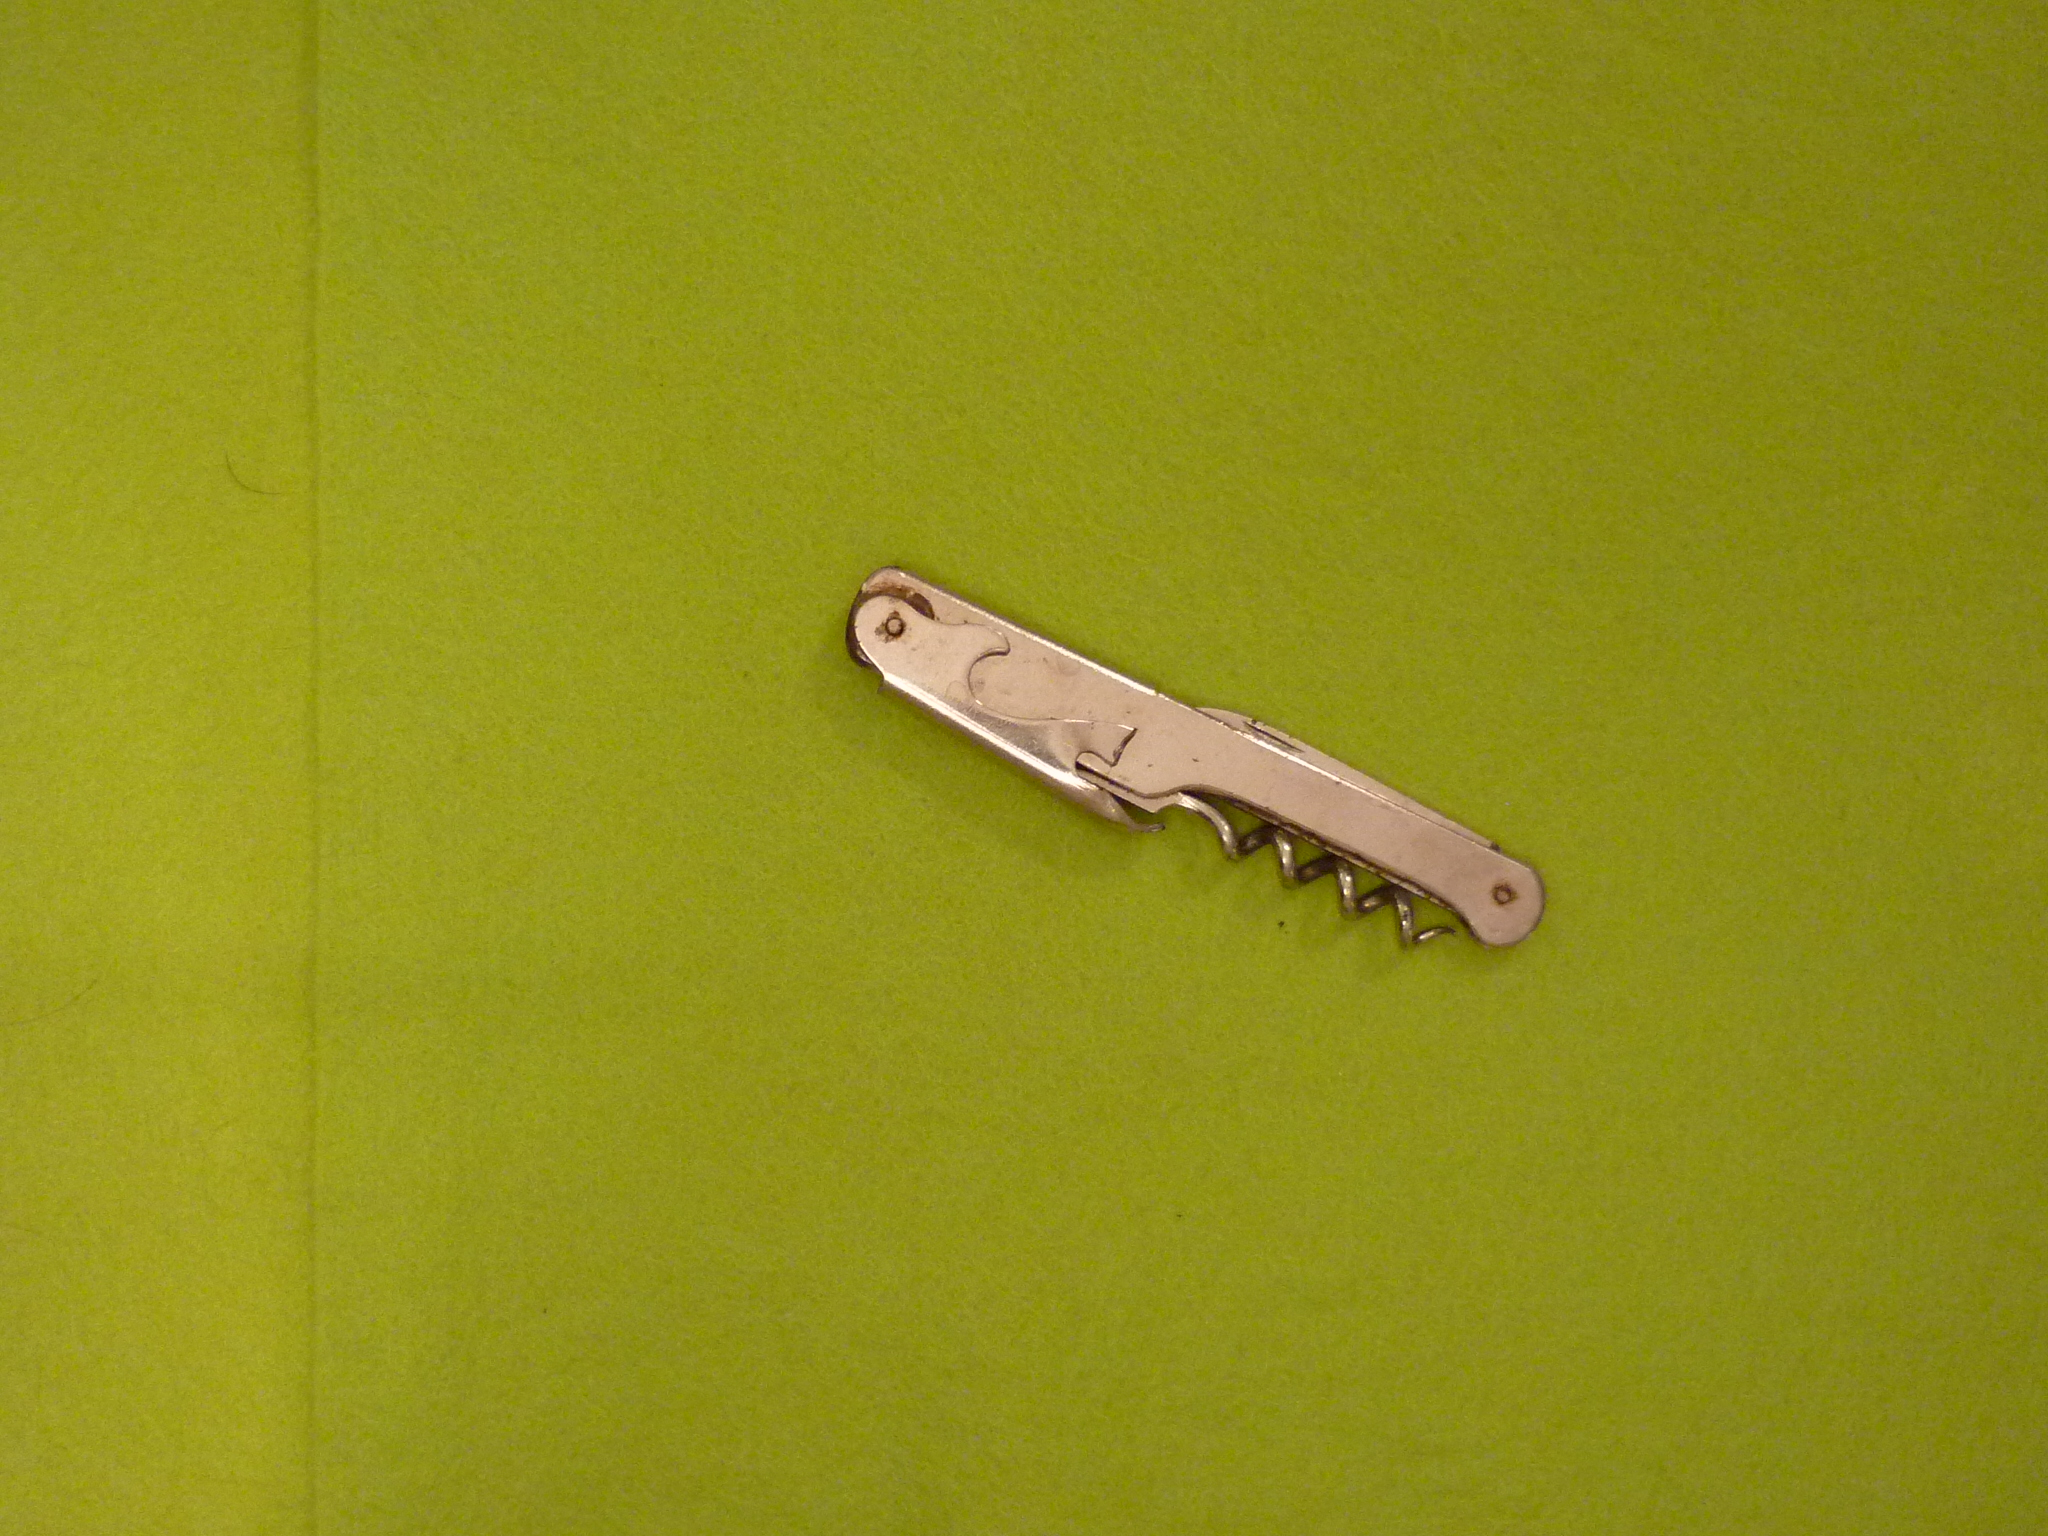bottleopener: (847, 566, 1546, 950)
